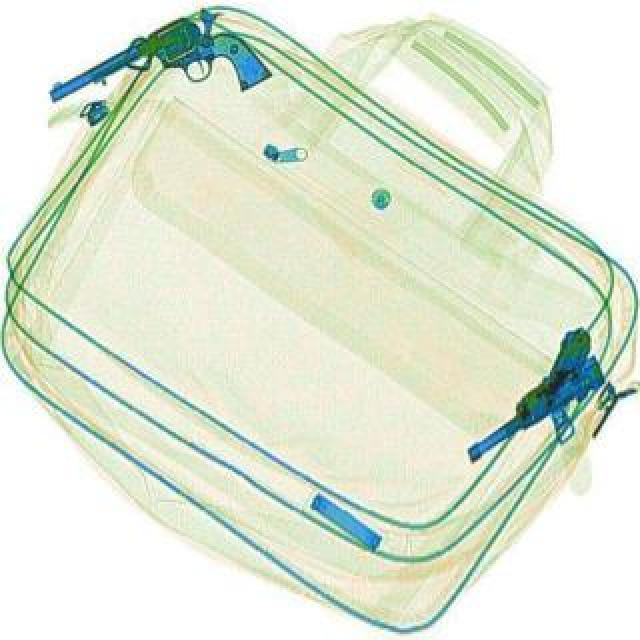gun: (44, 2, 276, 168), (436, 326, 620, 474)
